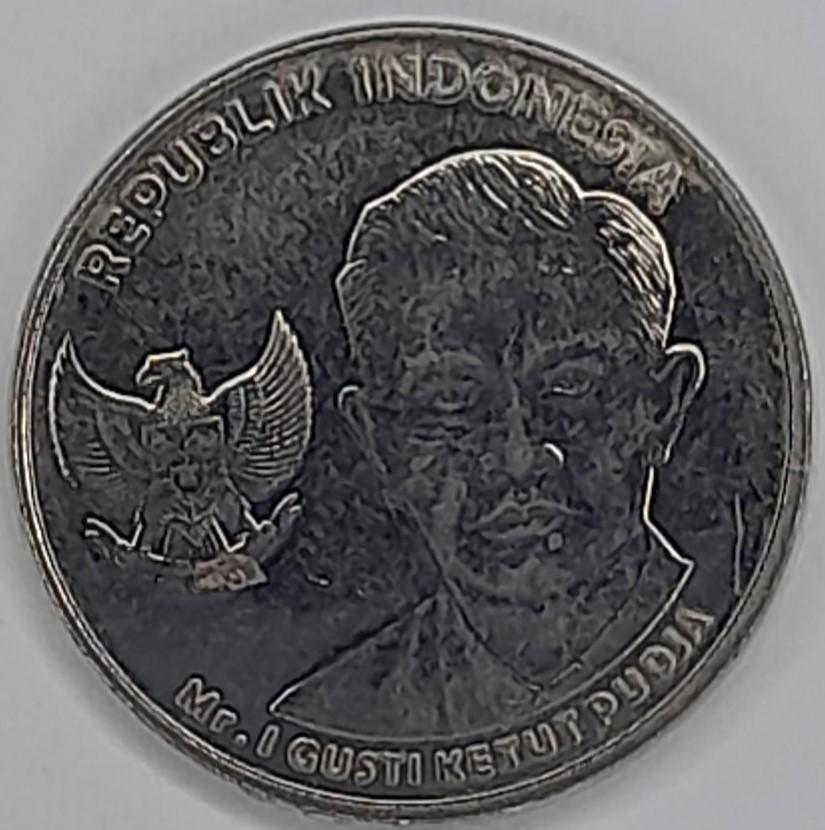coin_1000_e2016: (14, 16, 814, 830)
